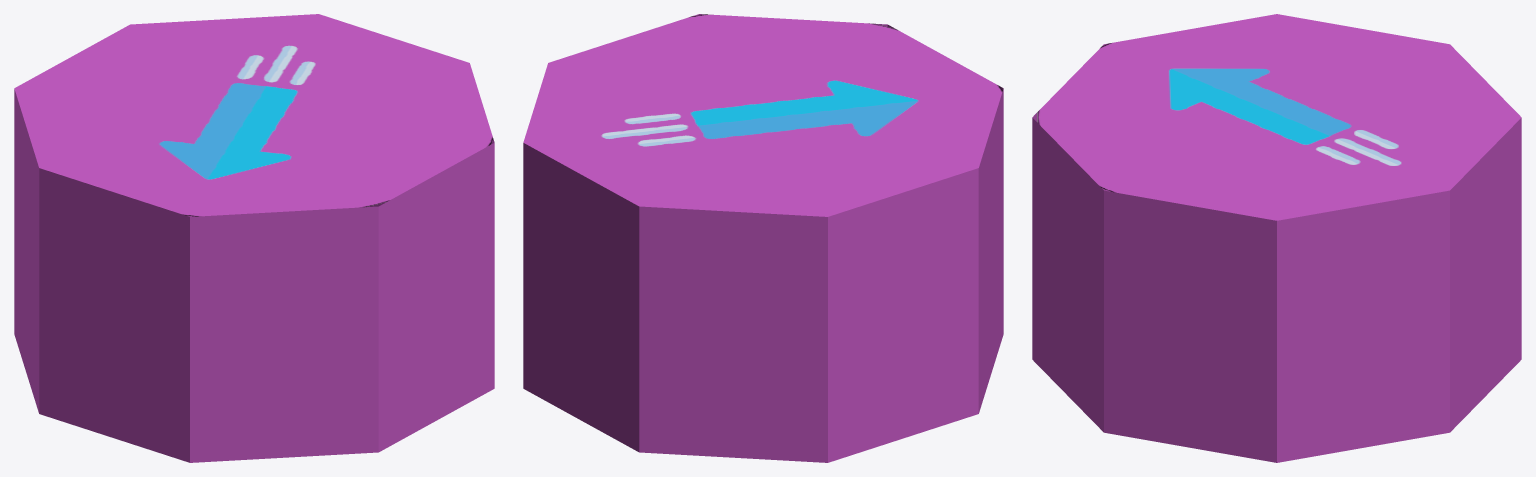
The model's file is item_speed.fbx.
The picture shows the model from 3 angles, left to right: view 1: azimuth 30°, elevation 25°; view 2: azimuth 150°, elevation 25°; view 3: azimuth 270°, elevation 25°; orthographic projection.
Visible parts, largest first — view 1: Cube; view 2: Cube; view 3: Cube.
Part boxes in pixels (x1,y1,x2,y2): Cube: (14, 14, 494, 462); Cube: (523, 14, 1003, 462); Cube: (1032, 14, 1521, 462).
Bounding box in the file's own units: 200 × 109 × 200.
